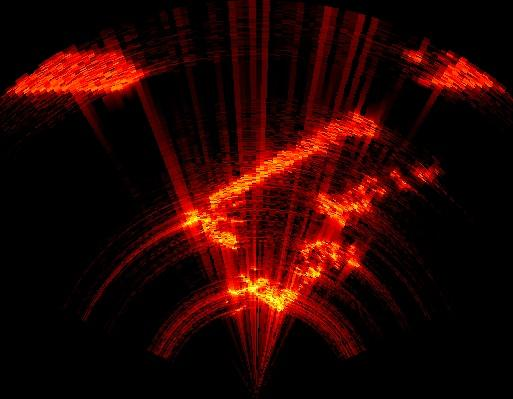shipwreck: (183, 118, 378, 246), (318, 167, 443, 221), (16, 52, 146, 95), (231, 279, 304, 313), (295, 241, 360, 276), (422, 61, 500, 87)
